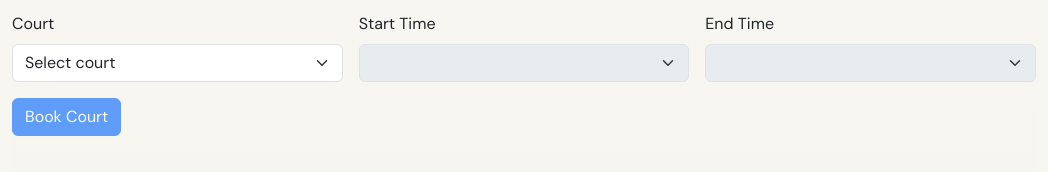
ReservationForm › resets selection when the court is deselected
This screenshot has width=1048, height=172.
Select "Court 1" in the dropdown labelled "Court" at (177, 63), box [12, 44, 343, 82]
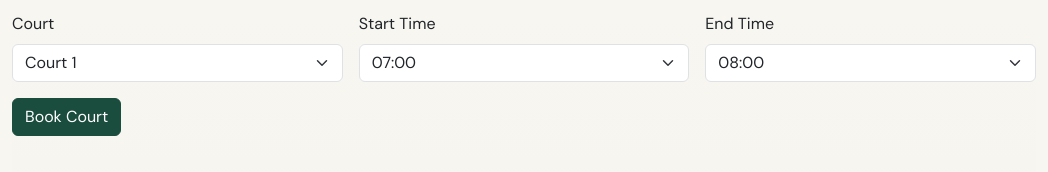
Expected: the dropdown labelled "Start Time" is enabled, [359, 44, 689, 82]
Select "Select court" in the dropdown labelled "Court" at (177, 63), box [12, 44, 343, 82]
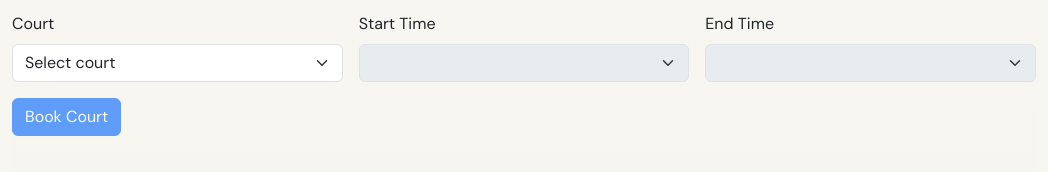
Expected: the dropdown labelled "Start Time" is disabled, [359, 44, 689, 82]
